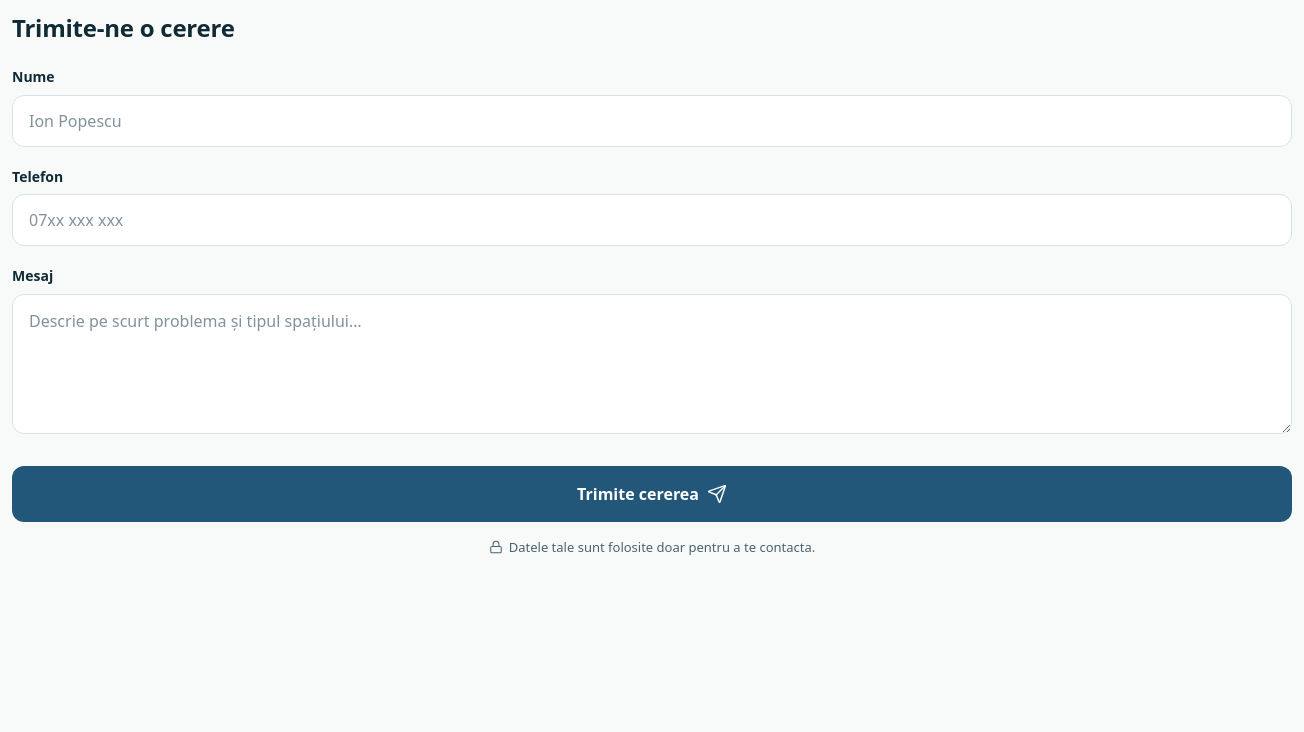
it: ContactForm › clears an error as soon as the field becomes valid
Click the button "Trimite cererea". click: (652, 494)
box: 12,466 -> 1292,522
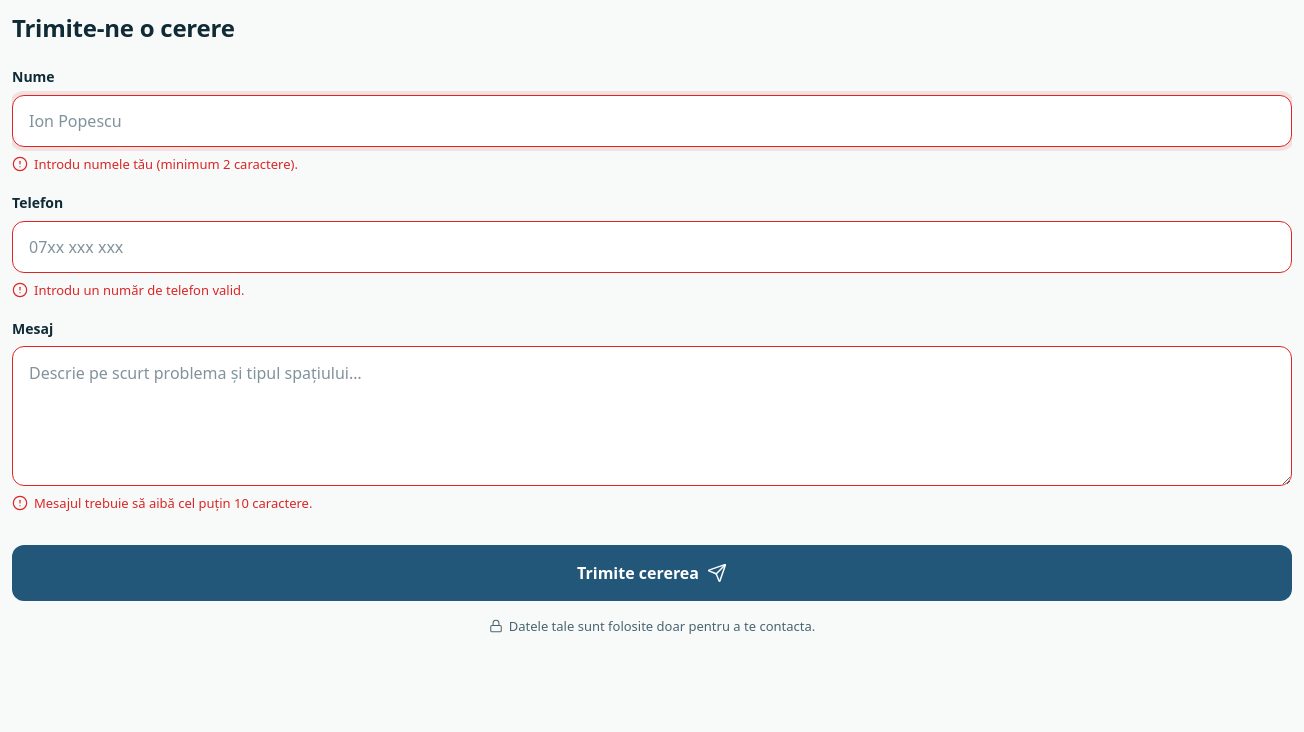
Type "0722 000 000" into the field labelled "Telefon". click: (652, 247)
box: 12,221 -> 1292,273
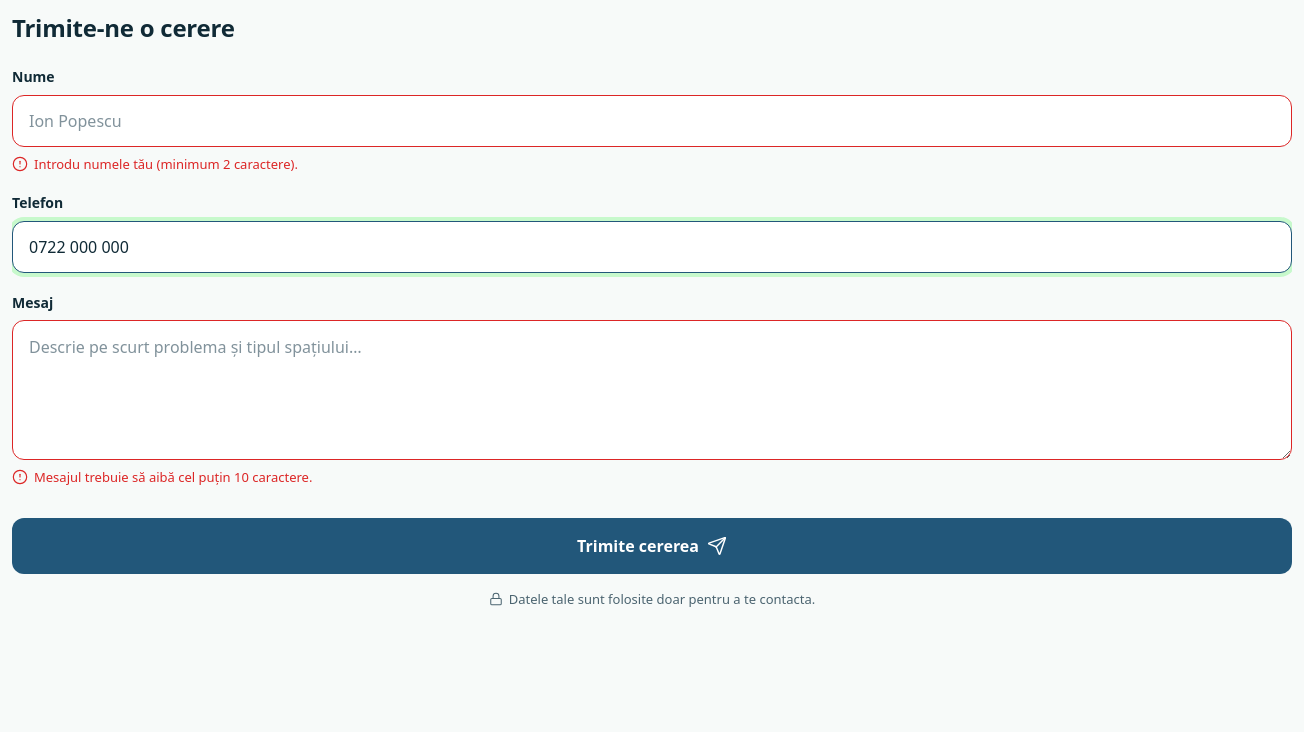
Result: the text "Introdu un număr de telefon valid." is gone
